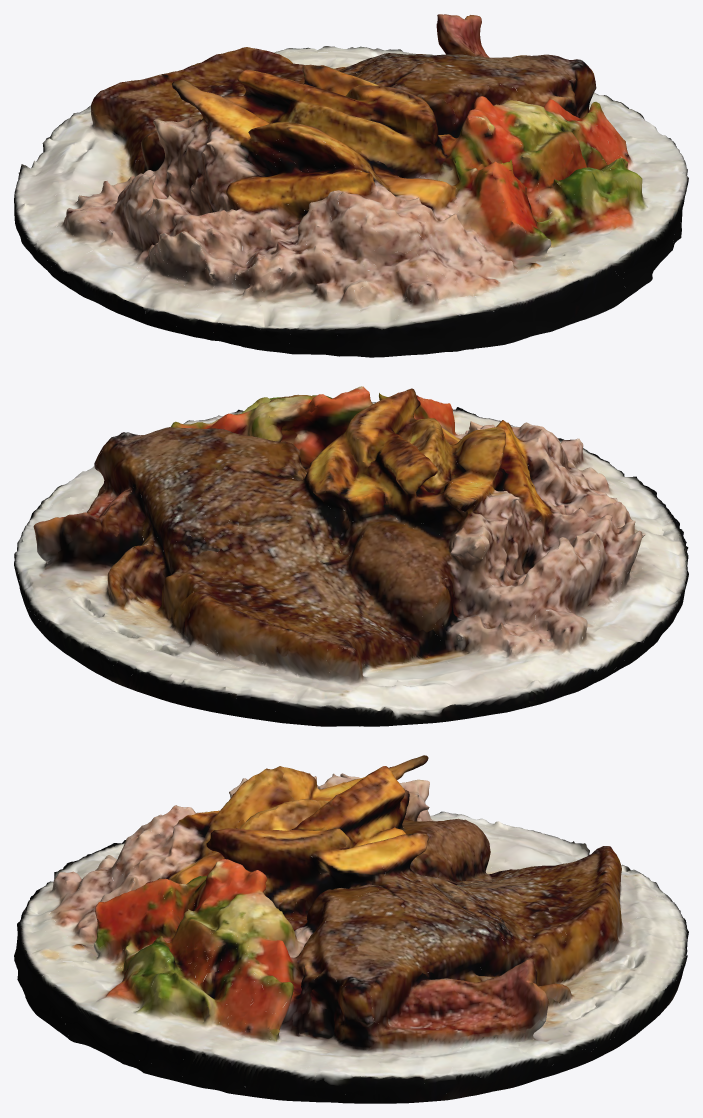
File: churrasco.glb
3 views of the same model, one above another, from view 1: azimuth 30°, elevation 25°; view 2: azimuth 150°, elevation 25°; view 3: azimuth 270°, elevation 25° (orthographic).
Parts seen in each view (by area): view 1: parte1, parte0, parte2; view 2: parte1, parte0, parte2; view 3: parte1, parte0, parte2.
Part boxes in pixels (x1,y1,x2,y2): parte1: (15,47,687,357); parte0: (14,14,688,348); parte2: (49,114,640,293); parte1: (14,386,686,719); parte0: (17,386,688,726); parte2: (202,396,645,672); parte1: (14,766,688,1103); parte0: (19,755,687,1101); parte2: (186,778,519,1040).
Size of the model in its own units: 0.3183 by 0.0809 by 0.3207.
Materials: 1 (1 with a texture image).
